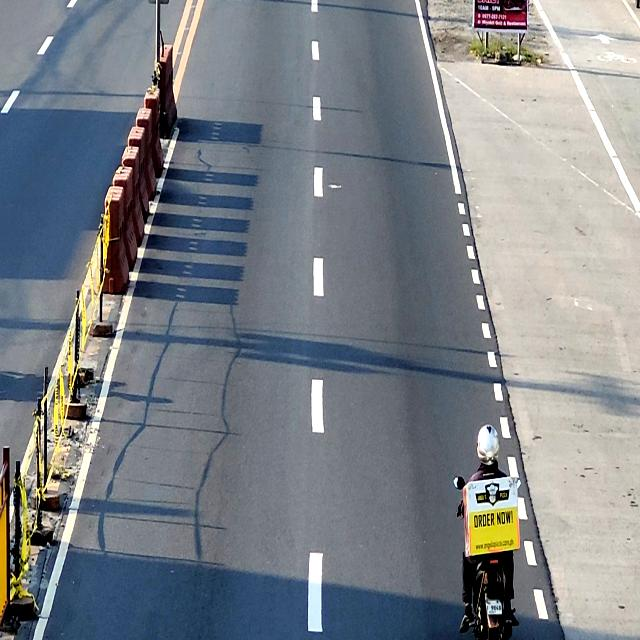License-Plate: (484, 599, 503, 616)
Motorcycle: (453, 474, 522, 640)
